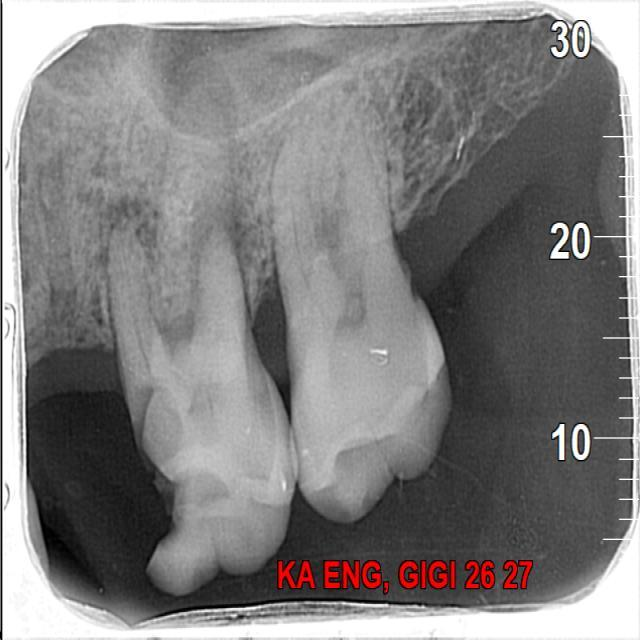individual-tooth-8tto: (269, 96, 447, 528), (99, 210, 296, 595)
